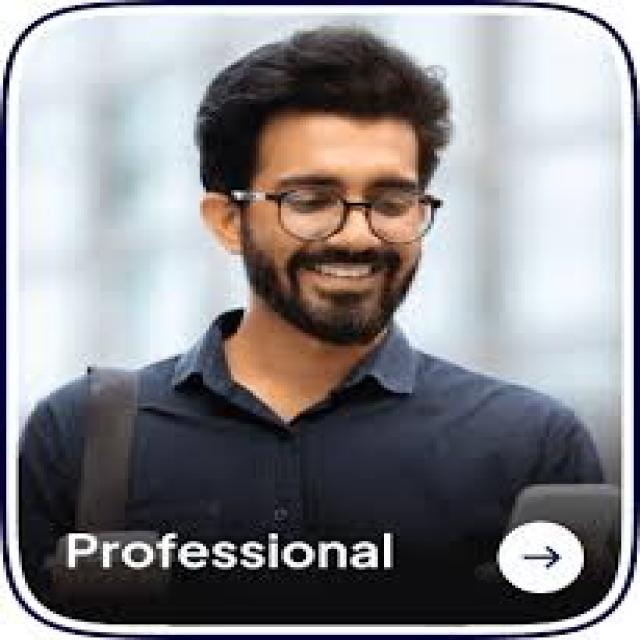watch: (201, 177, 465, 248)
